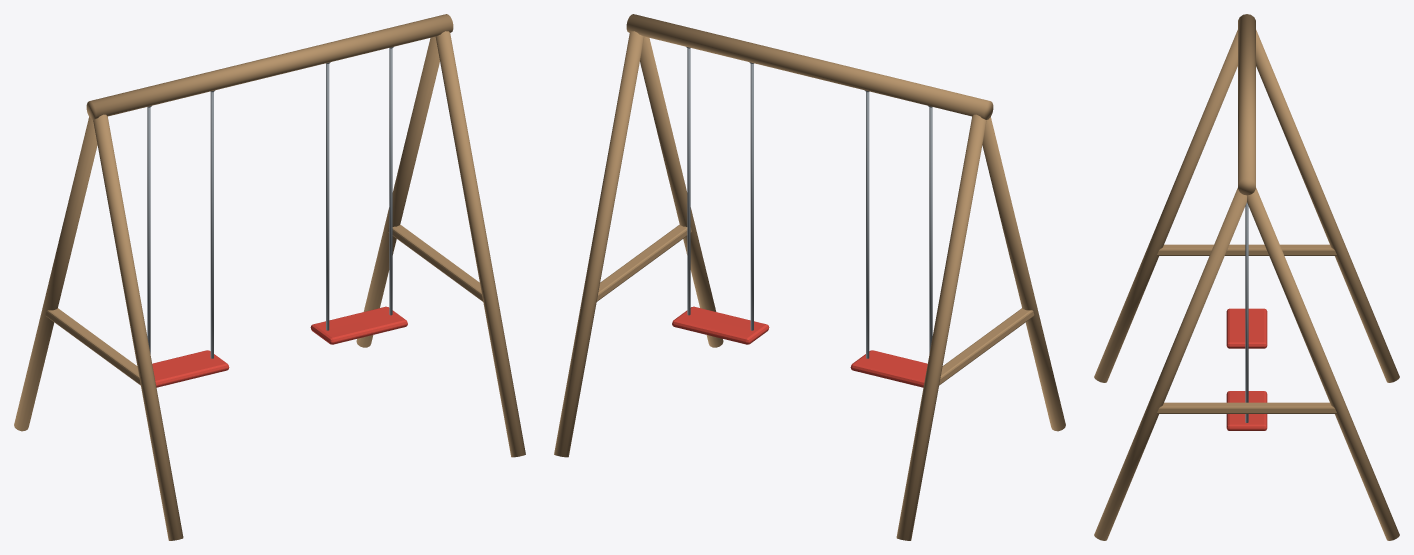
Rendered from swingSet.glb.
3 views of the same model, side by side, from view 1: azimuth 30°, elevation 25°; view 2: azimuth 150°, elevation 25°; view 3: azimuth 270°, elevation 25° (orthographic). The views are drawn at different scales.
Parts seen in each view (by area): view 1: frame, seats; view 2: frame, seats; view 3: frame, seats.
Part boxes in pixels (x1,y1,x2,y2): frame: (14,14,525,540); seats: (147,47,407,387); frame: (554,14,1065,540); seats: (672,47,932,387); frame: (1094,14,1399,540); seats: (1226,202,1267,430).
Size of the model in its own units: 1.92 by 1.98 by 1.51.
